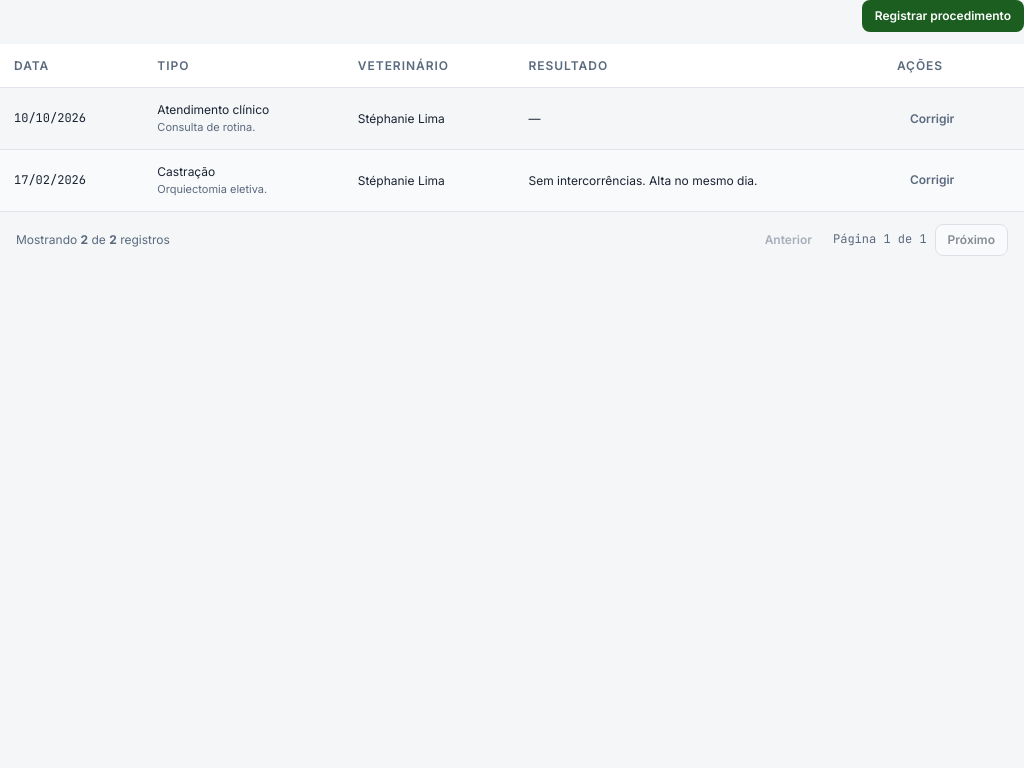
Test: ModalRegistrarProcedimento — catálogo de tipos da API › falha ao carregar bloqueia o envio; "Tentar novamente" recupera as opções
This screenshot has width=1024, height=768.
Expected: the text "Castração" is shown, [157,164,215,179]
Click the button "Registrar procedimento" at (943, 16), box [862,0,1023,32]
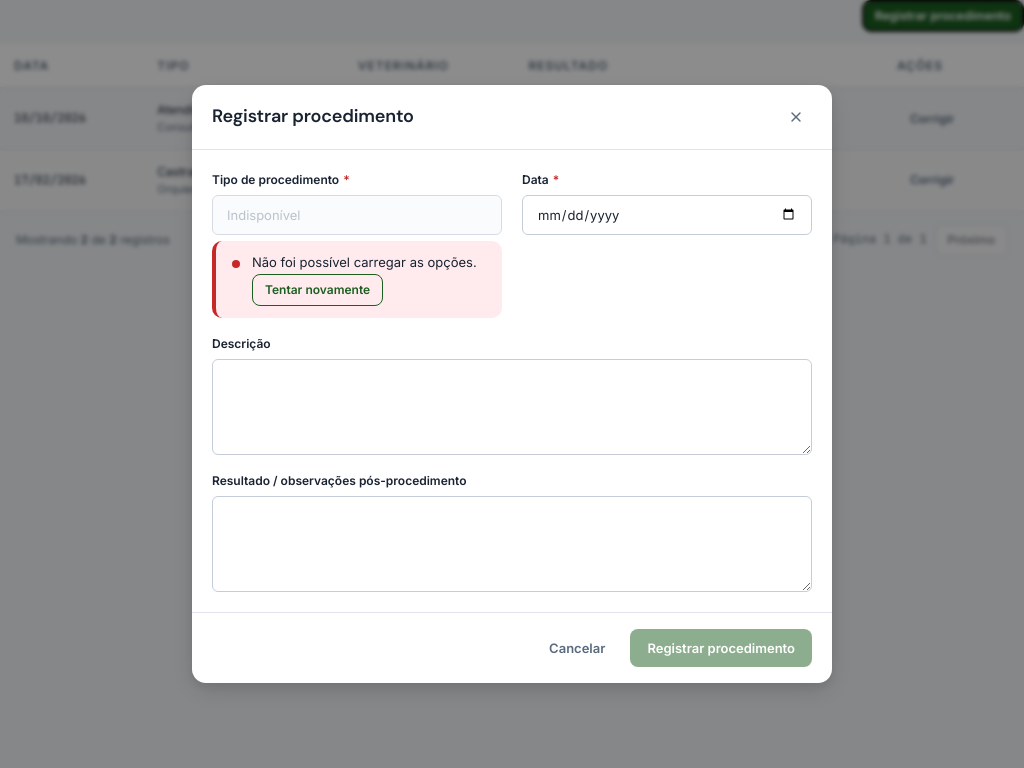
Expected: the text "Não foi possível carregar as opções." is shown, [252,254,477,270]
Expected: the button "Registrar procedimento" is disabled, [630,629,812,667]
Click the button "Tentar novamente" at (318, 290), box [252,274,383,306]
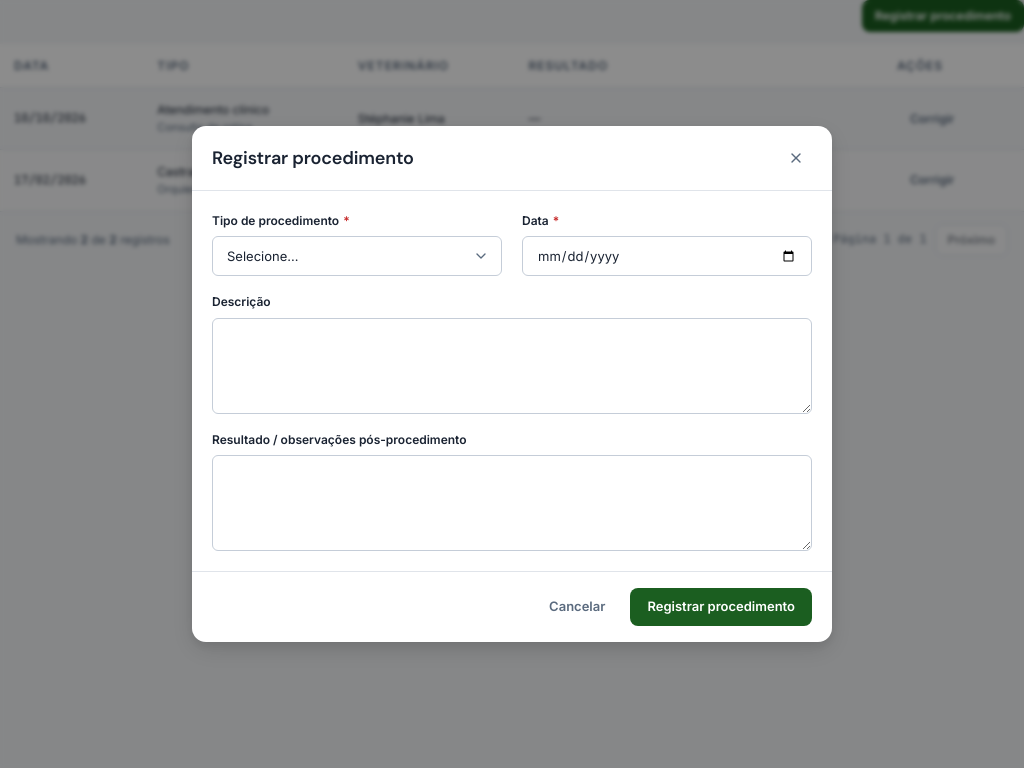
Expected: the button "Registrar procedimento" is enabled, [630,588,812,626]
